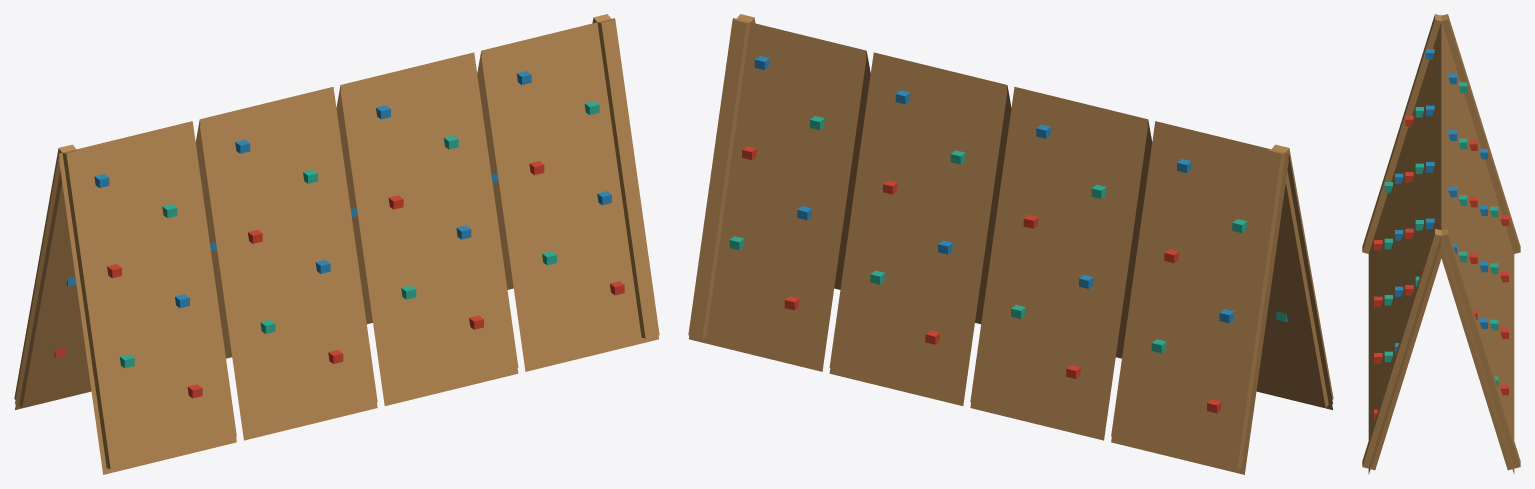
3 renders of one model, left to right at view 1: azimuth 30°, elevation 25°; view 2: azimuth 150°, elevation 25°; view 3: azimuth 270°, elevation 25°, orthographic. The views are drawn at different scales.
Parts seen in each view (by area): view 1: SW-A402; view 2: SW-A402; view 3: SW-A402.
Part boxes in pixels (left/top/right/bottom): SW-A402: left=14, top=14, right=659, bottom=474; SW-A402: left=688, top=14, right=1333, bottom=474; SW-A402: left=1362, top=14, right=1520, bottom=474.
Size of the model in its own units: 4 by 2 by 1.2.
